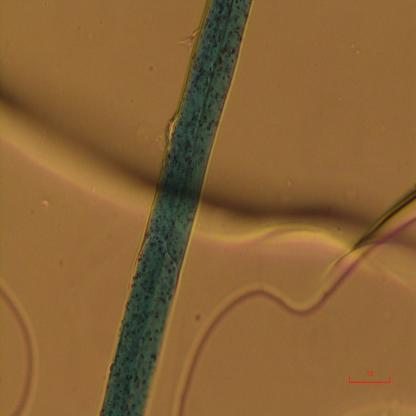Air bubble: (174, 188, 416, 414), (0, 93, 154, 212), (0, 267, 38, 415)
Microfibre: (98, 0, 253, 414)
